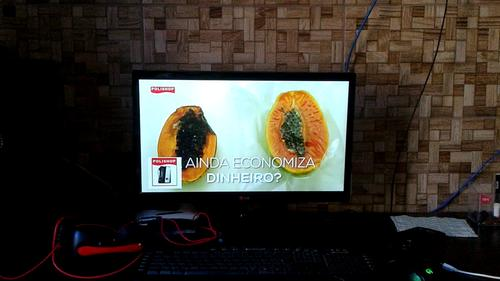Polishop #1: (149, 156, 182, 188)
